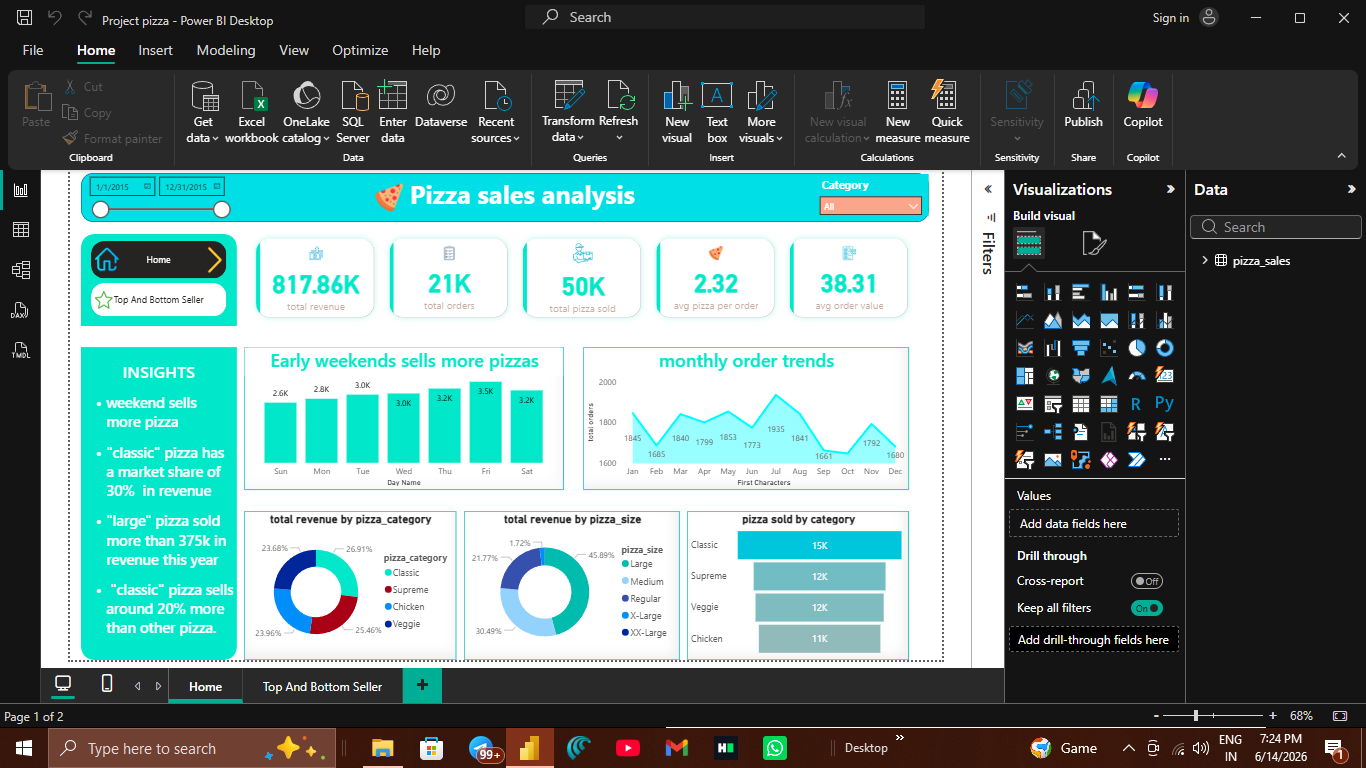

The dashboard page shown, as its layout file describes it:
{"tool":"powerbi","page":{"name":"Home","canvas":[1280,720],"ordinal":0},"visuals":[{"type":"columnChart","title":" Early weekends sells more pizzas","fields":{"Category":["pizza_sales.Day Name"],"Y":["pizza_sales.total orders"]},"box":[255.7,260.1,470.2,210.1],"z":0},{"type":"stackedAreaChart","title":"monthly order trends","fields":{"Category":["pizza_sales.First Characters"],"Y":["pizza_sales.total orders"]},"box":[753.8,260.1,479,210.1],"z":1000},{"type":"cardVisual","fields":{"Data":["pizza_sales.total revenue","pizza_sales.total orders","pizza_sales.total pizza sold","pizza_sales.avg pizza per order","pizza_sales.avg order value"]},"box":[245.4,72,1016.8,173.4],"z":2000},{"type":"shape","box":[16.2,4.4,1246,72],"z":3000},{"type":"textbox","box":[36.7,4.4,1215.2,72],"z":4000},{"type":"image","box":[411.4,19.1,114.6,42.6],"z":5000},{"type":"donutChart","fields":{"Category":["pizza_sales.pizza_category"],"Y":["pizza_sales.total revenue"]},"box":[255.7,501.1,311.5,218.9],"z":6000},{"type":"shape","box":[16.2,94,229.2,626],"z":7000},{"type":"donutChart","fields":{"Category":["pizza_sales.pizza_size"],"Y":["pizza_sales.total revenue"]},"box":[578.9,501.1,317.4,218.9],"z":8000},{"type":"funnel","title":"pizza sold by category","fields":{"Category":["pizza_sales.pizza_category"],"Y":["pizza_sales.total pizza sold"]},"box":[906.6,501.1,326.2,218.9],"z":9000},{"type":"textbox","box":[16.2,321.8,229.2,398.2],"z":10000},{"type":"textbox","box":[48.5,274.8,164.6,47],"z":11000},{"type":"pageNavigator","box":[30.9,104.3,199.8,55.8],"z":12000},{"type":"pageNavigator","box":[30.9,166,199.8,50],"z":13000},{"type":"shape","box":[16.2,229.2,229.2,30.9],"z":14000},{"type":"image","box":[194,111.7,38.2,41.1],"z":15000},{"type":"image","box":[36.7,111.7,35.3,39.7],"z":16000},{"type":"image","box":[36.7,176.3,26.4,29.4],"z":17000},{"type":"slicer","fields":{"Values":["pizza_sales.order_date"]},"box":[16.2,0,227.8,72],"z":19000},{"type":"slicer","fields":{"Values":["pizza_sales.pizza_category"]},"box":[1091.8,5.9,170.4,61.7],"z":19001}]}

Visuals, with their boxes on the page's 1280x720 design canvas (x1, y1, x2, y2). These are canvas units, not pixel positions in the 1366x768 screenshot, which may show the page scaled, cropped or inside an application window:
" Early weekends sells more pizzas" columnChart: detection(256, 260, 726, 470)
"monthly order trends" stackedAreaChart: detection(754, 260, 1233, 470)
cardVisual - pizza_sales.total revenue x pizza_sales.total orders: detection(245, 72, 1262, 245)
shape: detection(16, 4, 1262, 76)
textbox: detection(37, 4, 1252, 76)
image: detection(411, 19, 526, 62)
donutChart - pizza_sales.pizza_category x pizza_sales.total revenue: detection(256, 501, 567, 720)
shape: detection(16, 94, 245, 720)
donutChart - pizza_sales.pizza_size x pizza_sales.total revenue: detection(579, 501, 896, 720)
"pizza sold by category" funnel: detection(907, 501, 1233, 720)
textbox: detection(16, 322, 245, 720)
textbox: detection(48, 275, 213, 322)
pageNavigator: detection(31, 104, 231, 160)
pageNavigator: detection(31, 166, 231, 216)
shape: detection(16, 229, 245, 260)
image: detection(194, 112, 232, 153)
image: detection(37, 112, 72, 151)
image: detection(37, 176, 63, 206)
slicer - pizza_sales.order_date: detection(16, 0, 244, 72)
slicer - pizza_sales.pizza_category: detection(1092, 6, 1262, 68)
